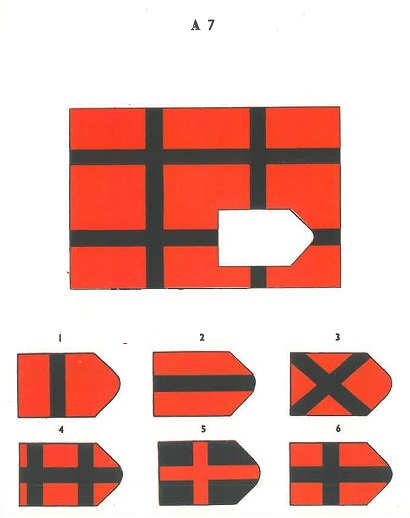Array 1: (13, 330, 126, 421)
Array 2: (149, 331, 259, 420)
Array 3: (284, 329, 399, 421)
Array 4: (13, 423, 128, 510)
Array 5: (150, 422, 264, 509)
Array 6: (285, 423, 398, 510)
Matrix: (64, 102, 346, 293)
Matrix Unknown: (214, 206, 315, 268)
